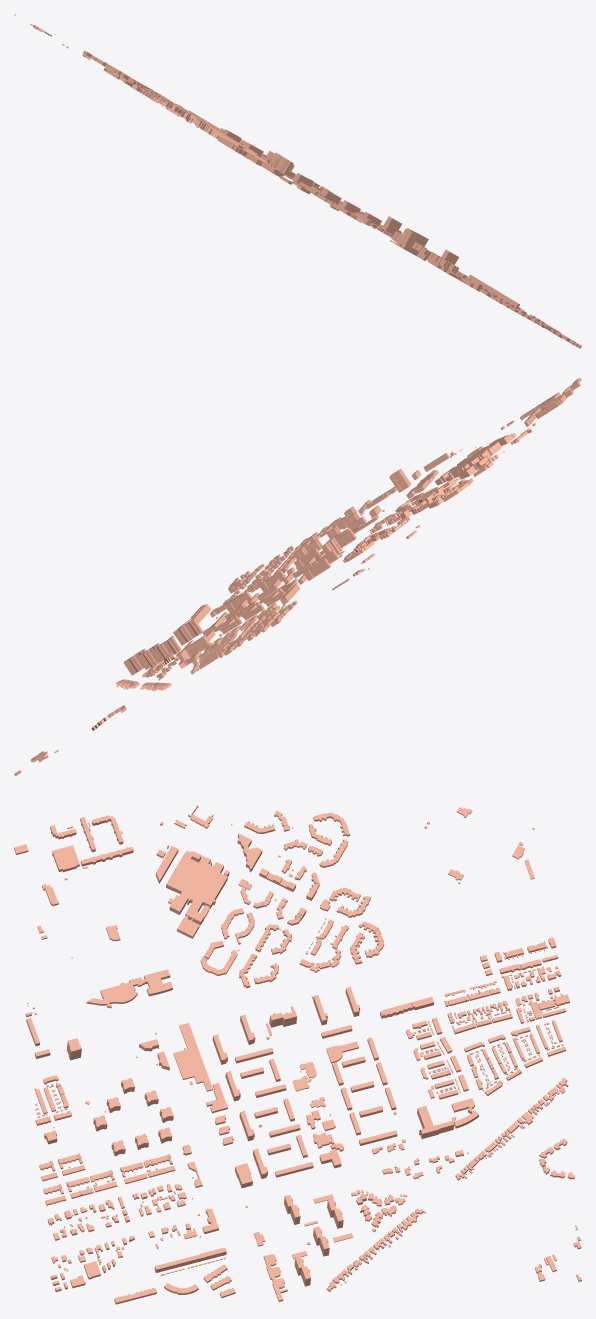
The picture shows the model from 3 angles, top to bottom: view 1: azimuth 30°, elevation 25°; view 2: azimuth 150°, elevation 25°; view 3: azimuth 270°, elevation 25°; orthographic projection. The views are drawn at different scales.
Bounding box in the file's own units: 1029 × 775 × 1271.
